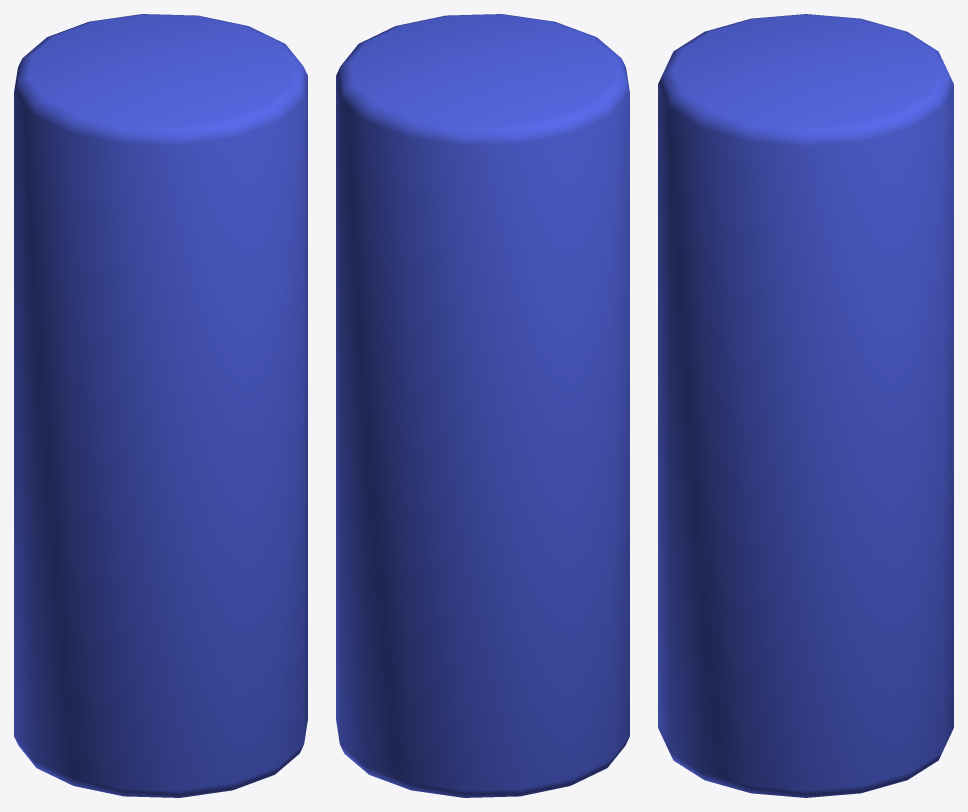
File: archStackCylinder.glb
3 renders of one model, left to right at view 1: azimuth 30°, elevation 25°; view 2: azimuth 150°, elevation 25°; view 3: azimuth 270°, elevation 25°, orthographic.
Parts seen in each view (by area): view 1: archStackCylinder; view 2: archStackCylinder; view 3: archStackCylinder.
Part boxes in pixels (x1=…): archStackCylinder: x1=14, y1=14, x2=307, y2=797; archStackCylinder: x1=336, y1=14, x2=629, y2=797; archStackCylinder: x1=658, y1=14, x2=953, y2=797.
Bounding box in the file's own units: 0.4 × 1 × 0.4.
